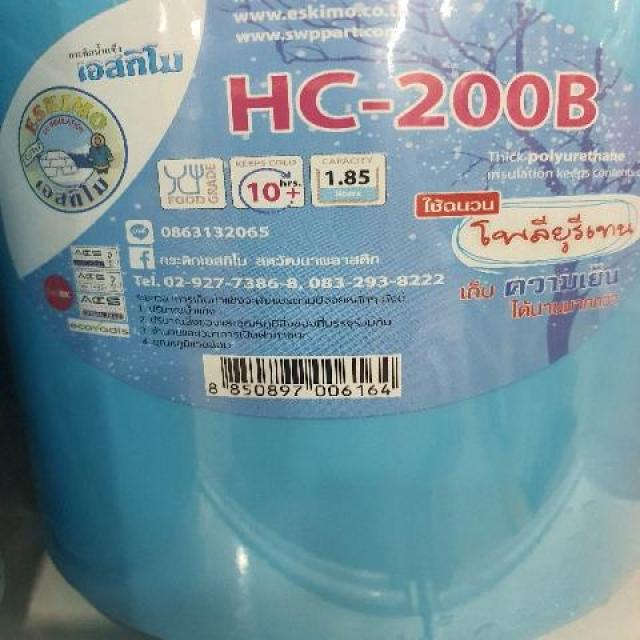Barcode: (201, 350, 407, 399)
